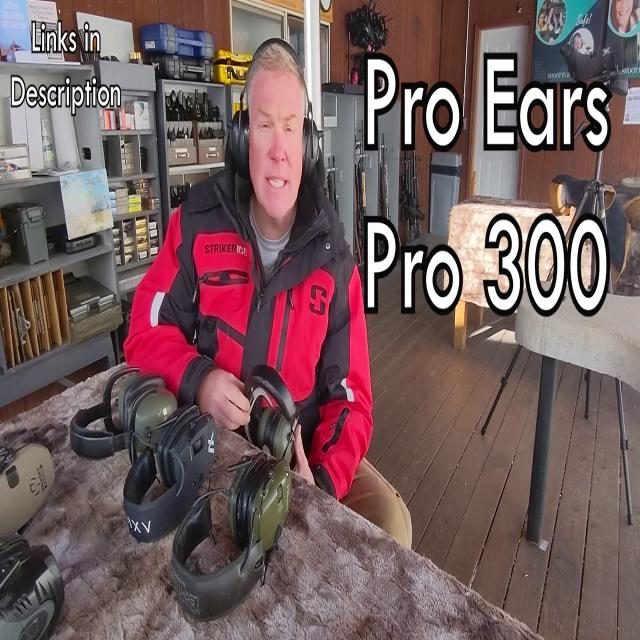earmuff: (226, 101, 253, 188), (299, 113, 325, 189)
